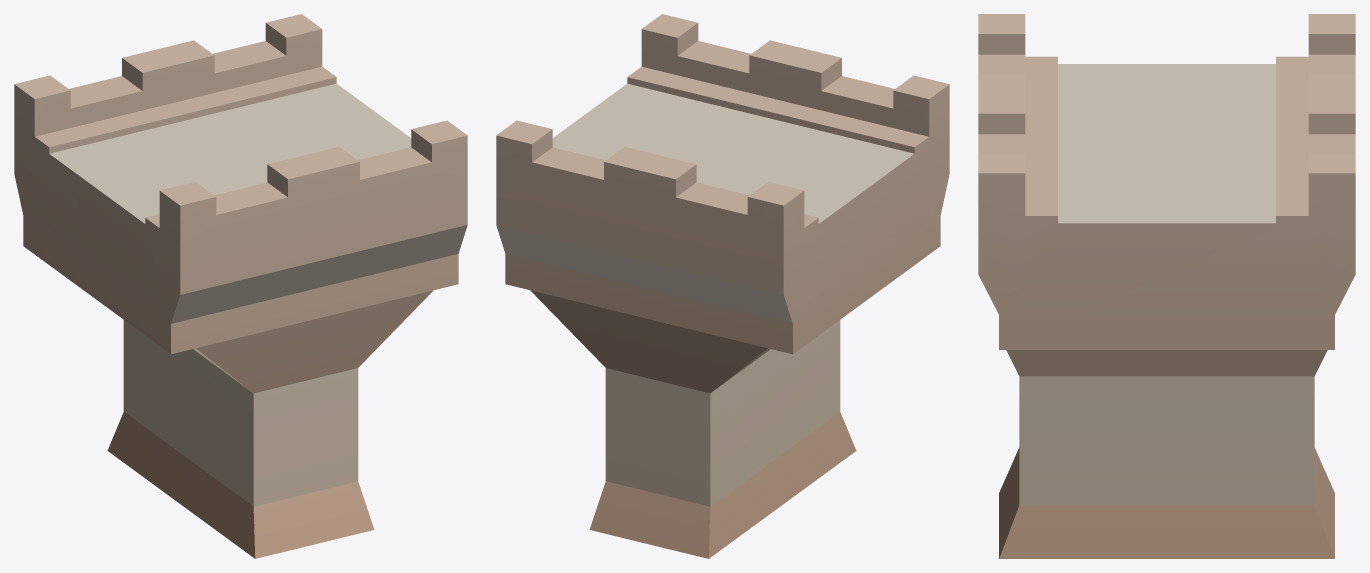
The model's file is bridge-straight-pillar.glb.
The picture shows the model from 3 angles, left to right: view 1: azimuth 30°, elevation 25°; view 2: azimuth 150°, elevation 25°; view 3: azimuth 270°, elevation 25°; orthographic projection. The views are drawn at different scales.
Parts seen in each view (by area): view 1: bridge-straight-pillar; view 2: bridge-straight-pillar; view 3: bridge-straight-pillar.
Part boxes in pixels (box(x1,y1,x2,y2)): bridge-straight-pillar: box(14, 14, 467, 558); bridge-straight-pillar: box(496, 14, 949, 558); bridge-straight-pillar: box(978, 14, 1355, 558).
Bounding box in the file's own units: 0.93 × 1.18 × 0.93.
